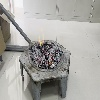fire: (39, 28, 44, 46)
